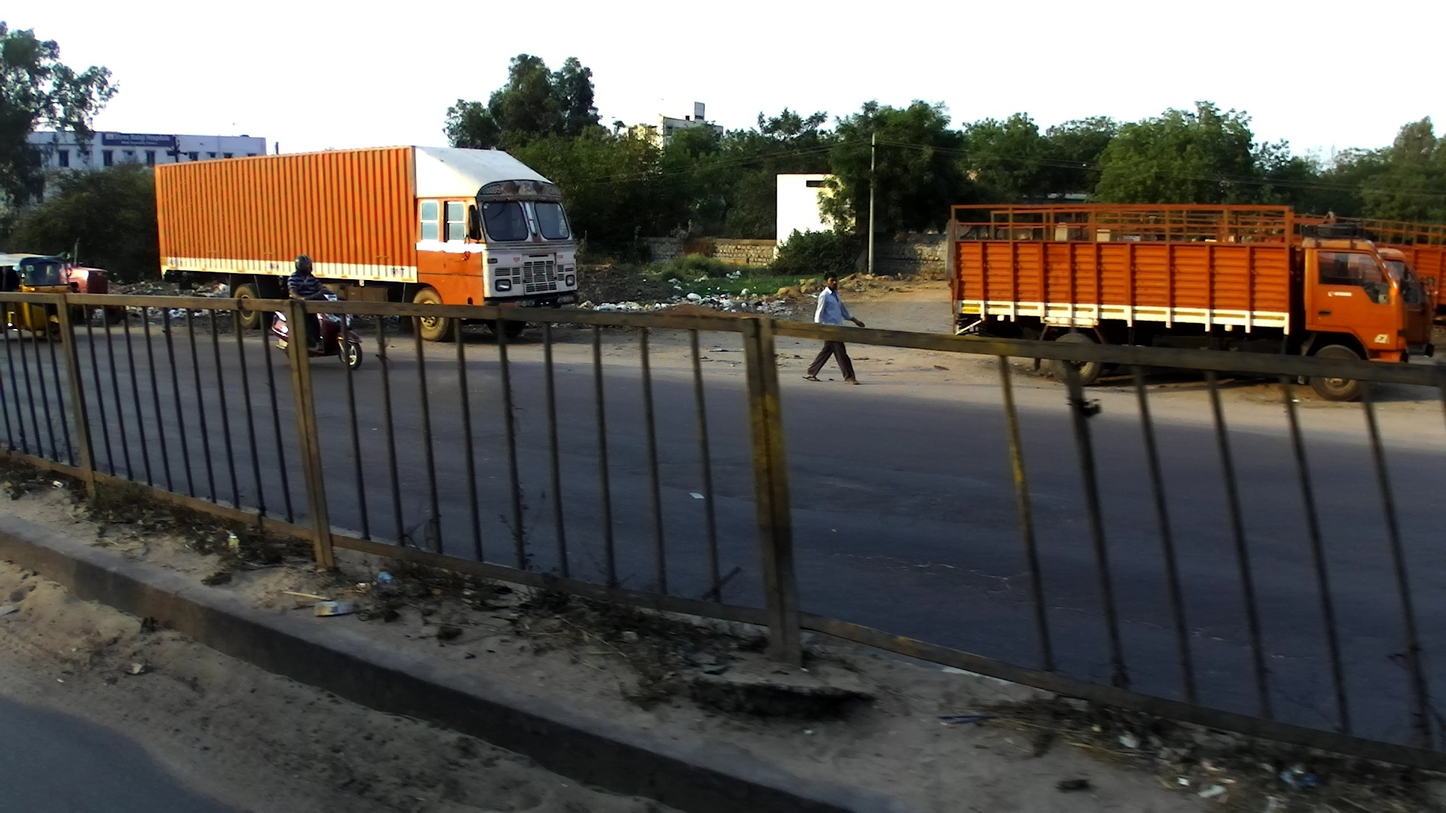autorickshaw: (1, 254, 73, 327)
motorcycle: (307, 284, 340, 313)
person: (801, 271, 866, 386)
rider: (285, 257, 332, 312)
truck: (944, 196, 1410, 388), (153, 149, 578, 357), (1305, 215, 1446, 332), (1374, 245, 1435, 374)
vehicle fallback: (59, 235, 108, 312)
